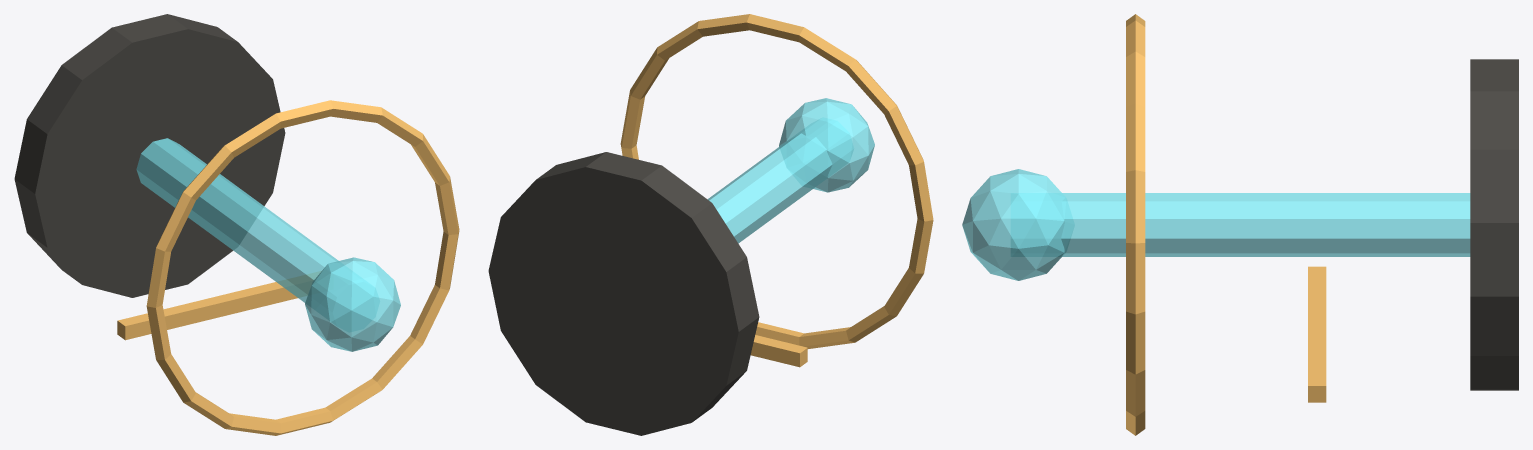
File: 08_support_npc_assist_marker.glb
The picture shows the model from 3 angles, left to right: view 1: azimuth 30°, elevation 25°; view 2: azimuth 150°, elevation 25°; view 3: azimuth 270°, elevation 25°; orthographic projection. The views are drawn at different scales.
Parts seen in each view (by area): view 1: assist_beacon_base, support_lock_ring, assist_column, npc_signal_core, support_direction_marker; view 2: assist_beacon_base, support_lock_ring, assist_column, npc_signal_core, support_direction_marker; view 3: assist_column, assist_beacon_base, npc_signal_core, support_lock_ring, support_direction_marker.
Part boxes in pixels (<box>): assist_beacon_base: <box>14,14,285,297</box>; support_lock_ring: <box>146,100,459,435</box>; assist_column: <box>136,138,338,302</box>; npc_signal_core: <box>305,257,400,351</box>; support_direction_marker: <box>117,271,320,340</box>; assist_beacon_base: <box>488,152,759,435</box>; support_lock_ring: <box>620,14,933,348</box>; assist_column: <box>707,133,832,243</box>; npc_signal_core: <box>779,98,874,192</box>; support_direction_marker: <box>750,335,807,367</box>; assist_column: <box>1061,193,1470,256</box>; assist_beacon_base: <box>1470,59,1518,390</box>; npc_signal_core: <box>962,169,1065,280</box>; support_lock_ring: <box>1126,14,1145,435</box>; support_direction_marker: <box>1308,266,1326,402</box>.
Bounding box in the file's own units: 1.05 × 1.03 × 1.38.
